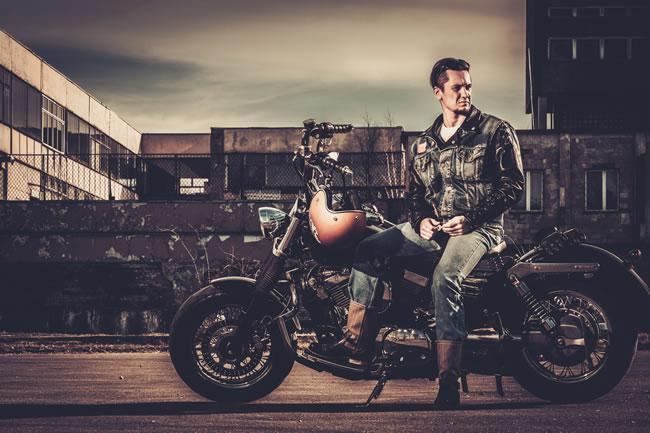people: (332, 39, 598, 407)
